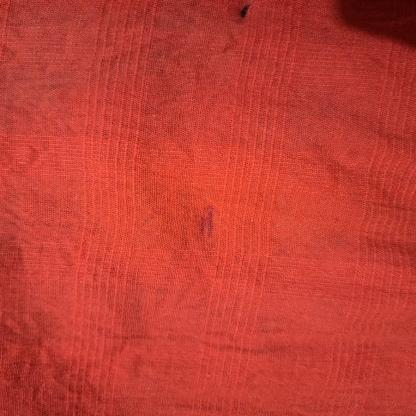spot: (192, 206, 224, 239), (233, 3, 261, 22)
